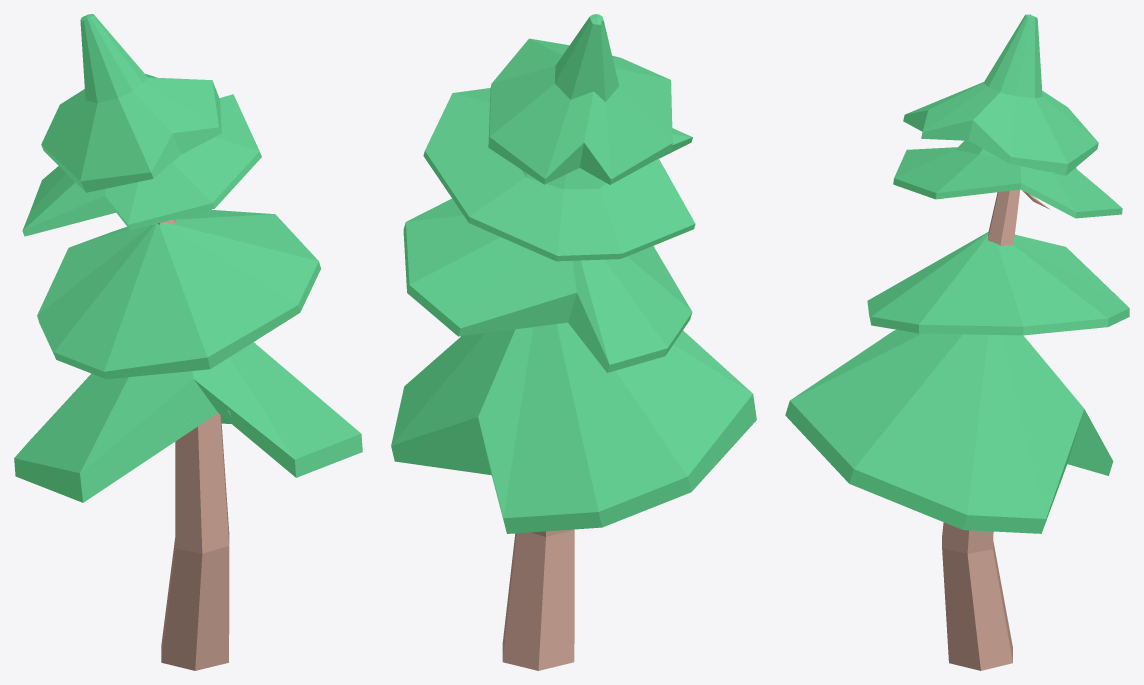
The picture shows the model from 3 angles, left to right: view 1: azimuth 30°, elevation 25°; view 2: azimuth 150°, elevation 25°; view 3: azimuth 270°, elevation 25°; orthographic projection. The views are drawn at different scales.
Visible parts, largest first — view 1: EL-new; view 2: EL-new; view 3: EL-new.
Boxes of the visible parts, x1,y1,x2,y2 form: EL-new: (14,14,362,670); EL-new: (391,14,756,670); EL-new: (785,14,1129,670).
Bounding box in the file's own units: 293 × 606 × 313.
